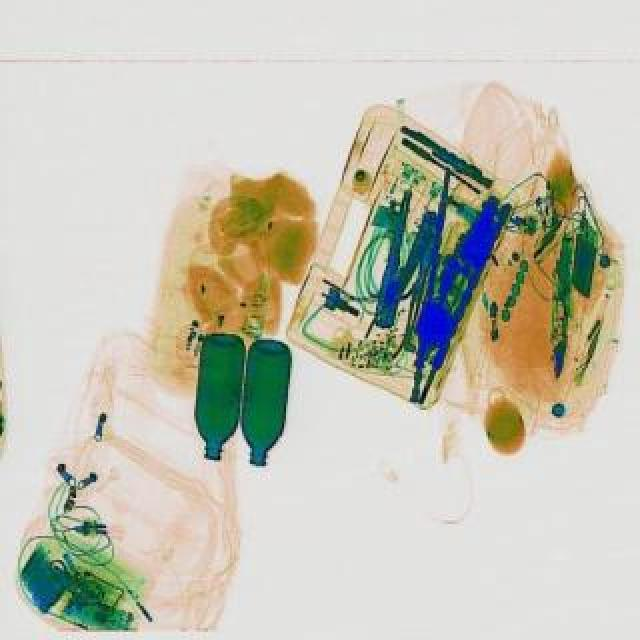wrench: (362, 202, 438, 330)
